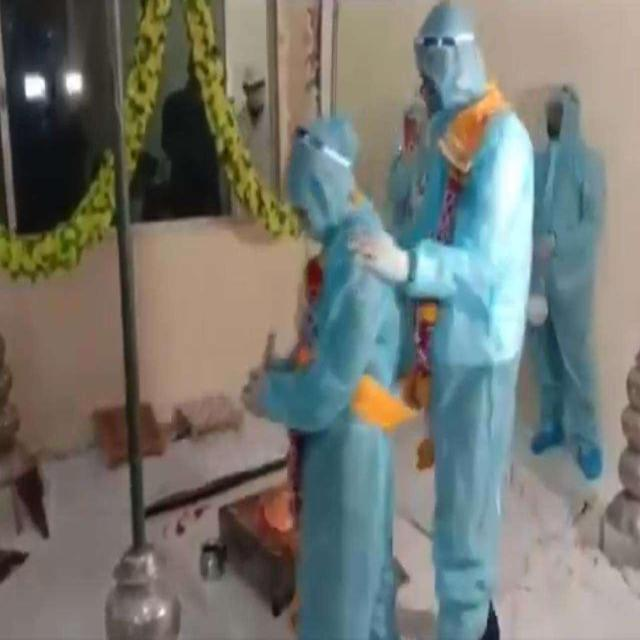Coverall: (261, 98, 407, 640), (393, 6, 517, 640), (525, 85, 615, 500)
